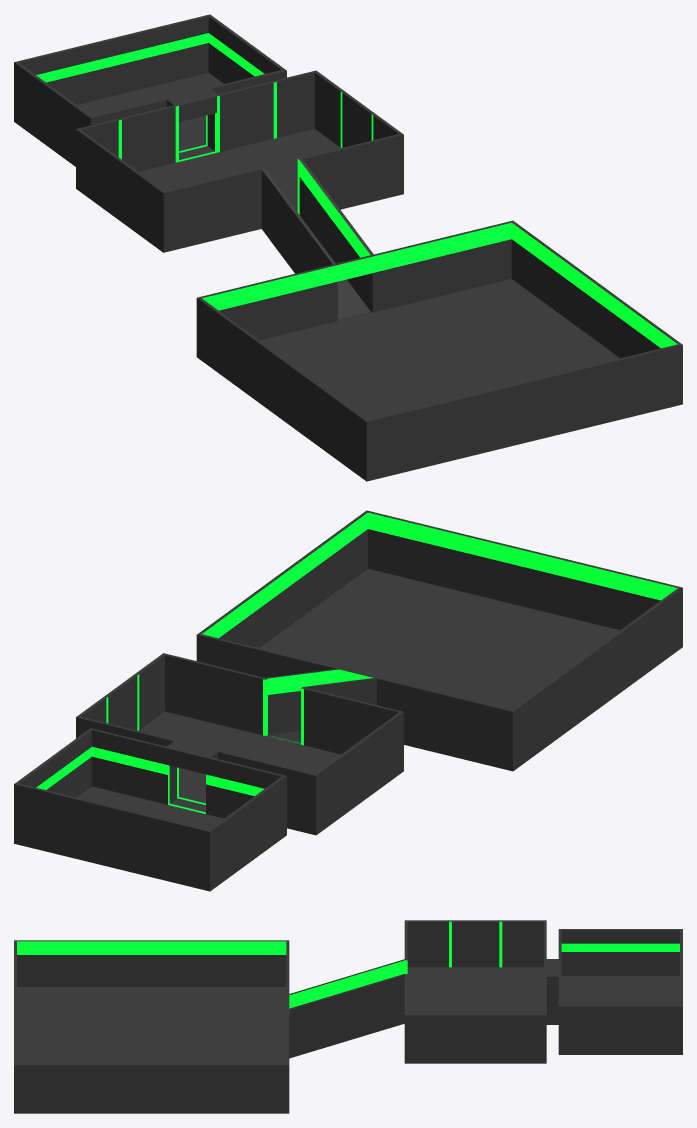
The model's file is Level 1.fbx.
3 renders of one model, top to bottom at view 1: azimuth 30°, elevation 25°; view 2: azimuth 150°, elevation 25°; view 3: azimuth 270°, elevation 25°, orthographic. The views are drawn at different scales.
Parts seen in each view (by area): view 1: Cube; view 2: Cube; view 3: Cube.
Boxes of the visible parts, x1,y1,x2,y2 form: Cube: (14,14,682,481); Cube: (14,510,682,891); Cube: (14,920,682,1113).
Bounding box in the file's own units: 10000 × 3100 × 22600.
